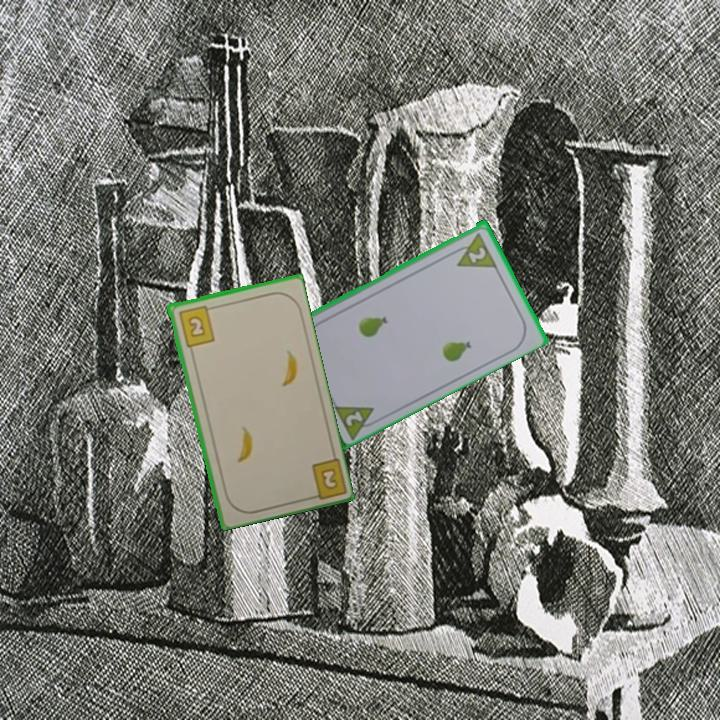2b: (303, 453, 347, 502), (175, 302, 218, 349)
2p: (330, 399, 383, 441), (448, 229, 499, 270)
